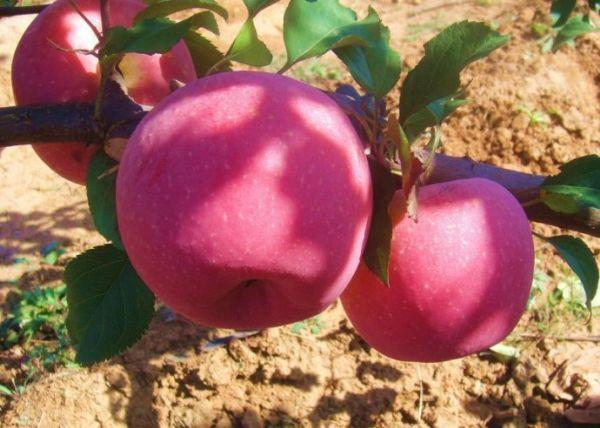apple: (115, 69, 371, 330), (340, 174, 535, 365), (11, 1, 202, 185)
